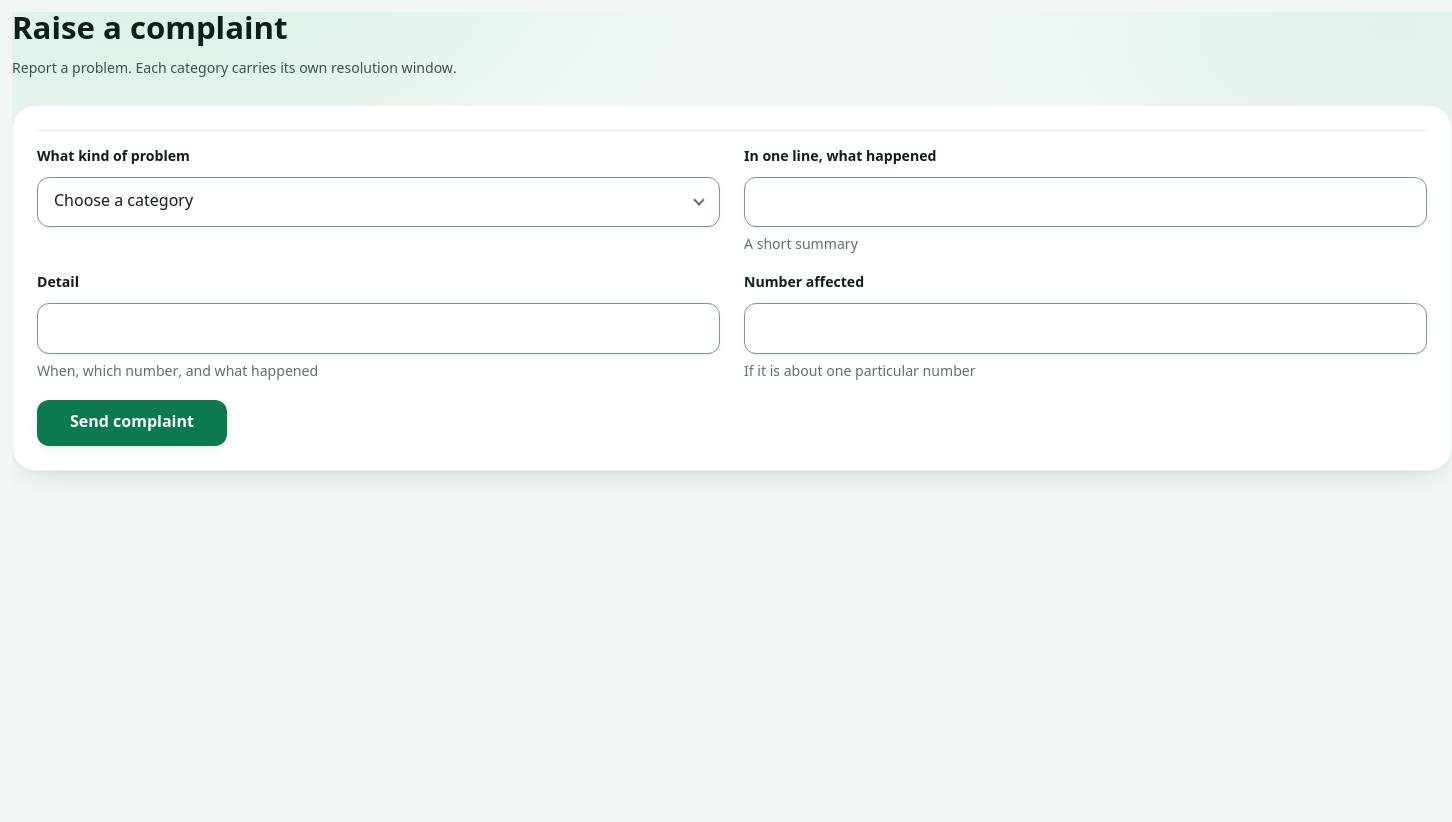
complaints › states the SLA before the ticket is raised, not after
This screenshot has width=1452, height=822.
Select "Recharge not received" in the dropdown labelled "What kind of problem" at (378, 202), box [38,178,719,226]
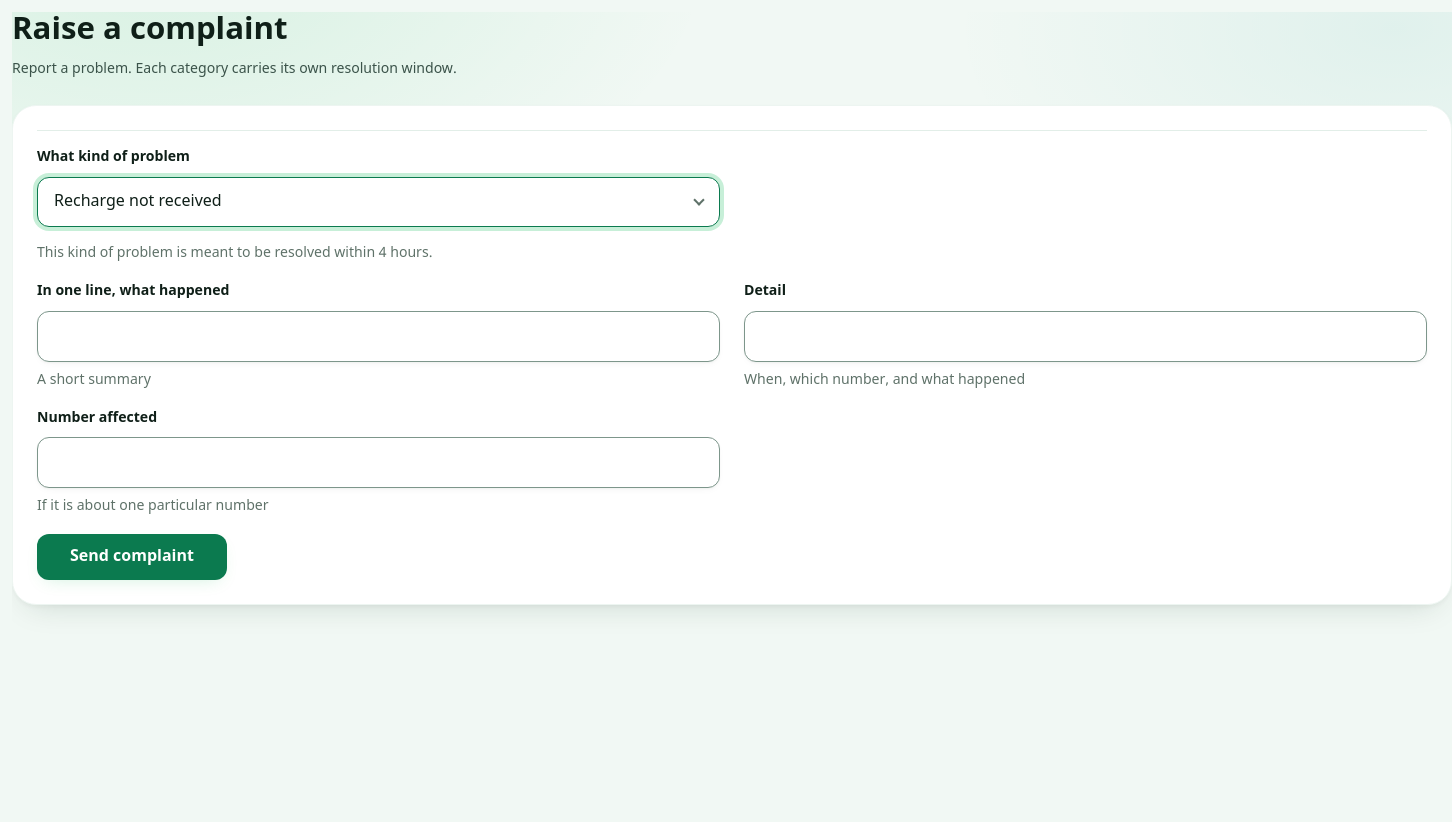
Check: the text "This kind of problem is meant to be resolved within 4 hours." is shown, box [37,244,432,263]
